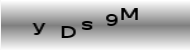9: (104, 13, 119, 27)
D: (59, 25, 77, 39)
M: (120, 5, 139, 22)
s: (81, 20, 94, 32)
y: (32, 21, 46, 36)
